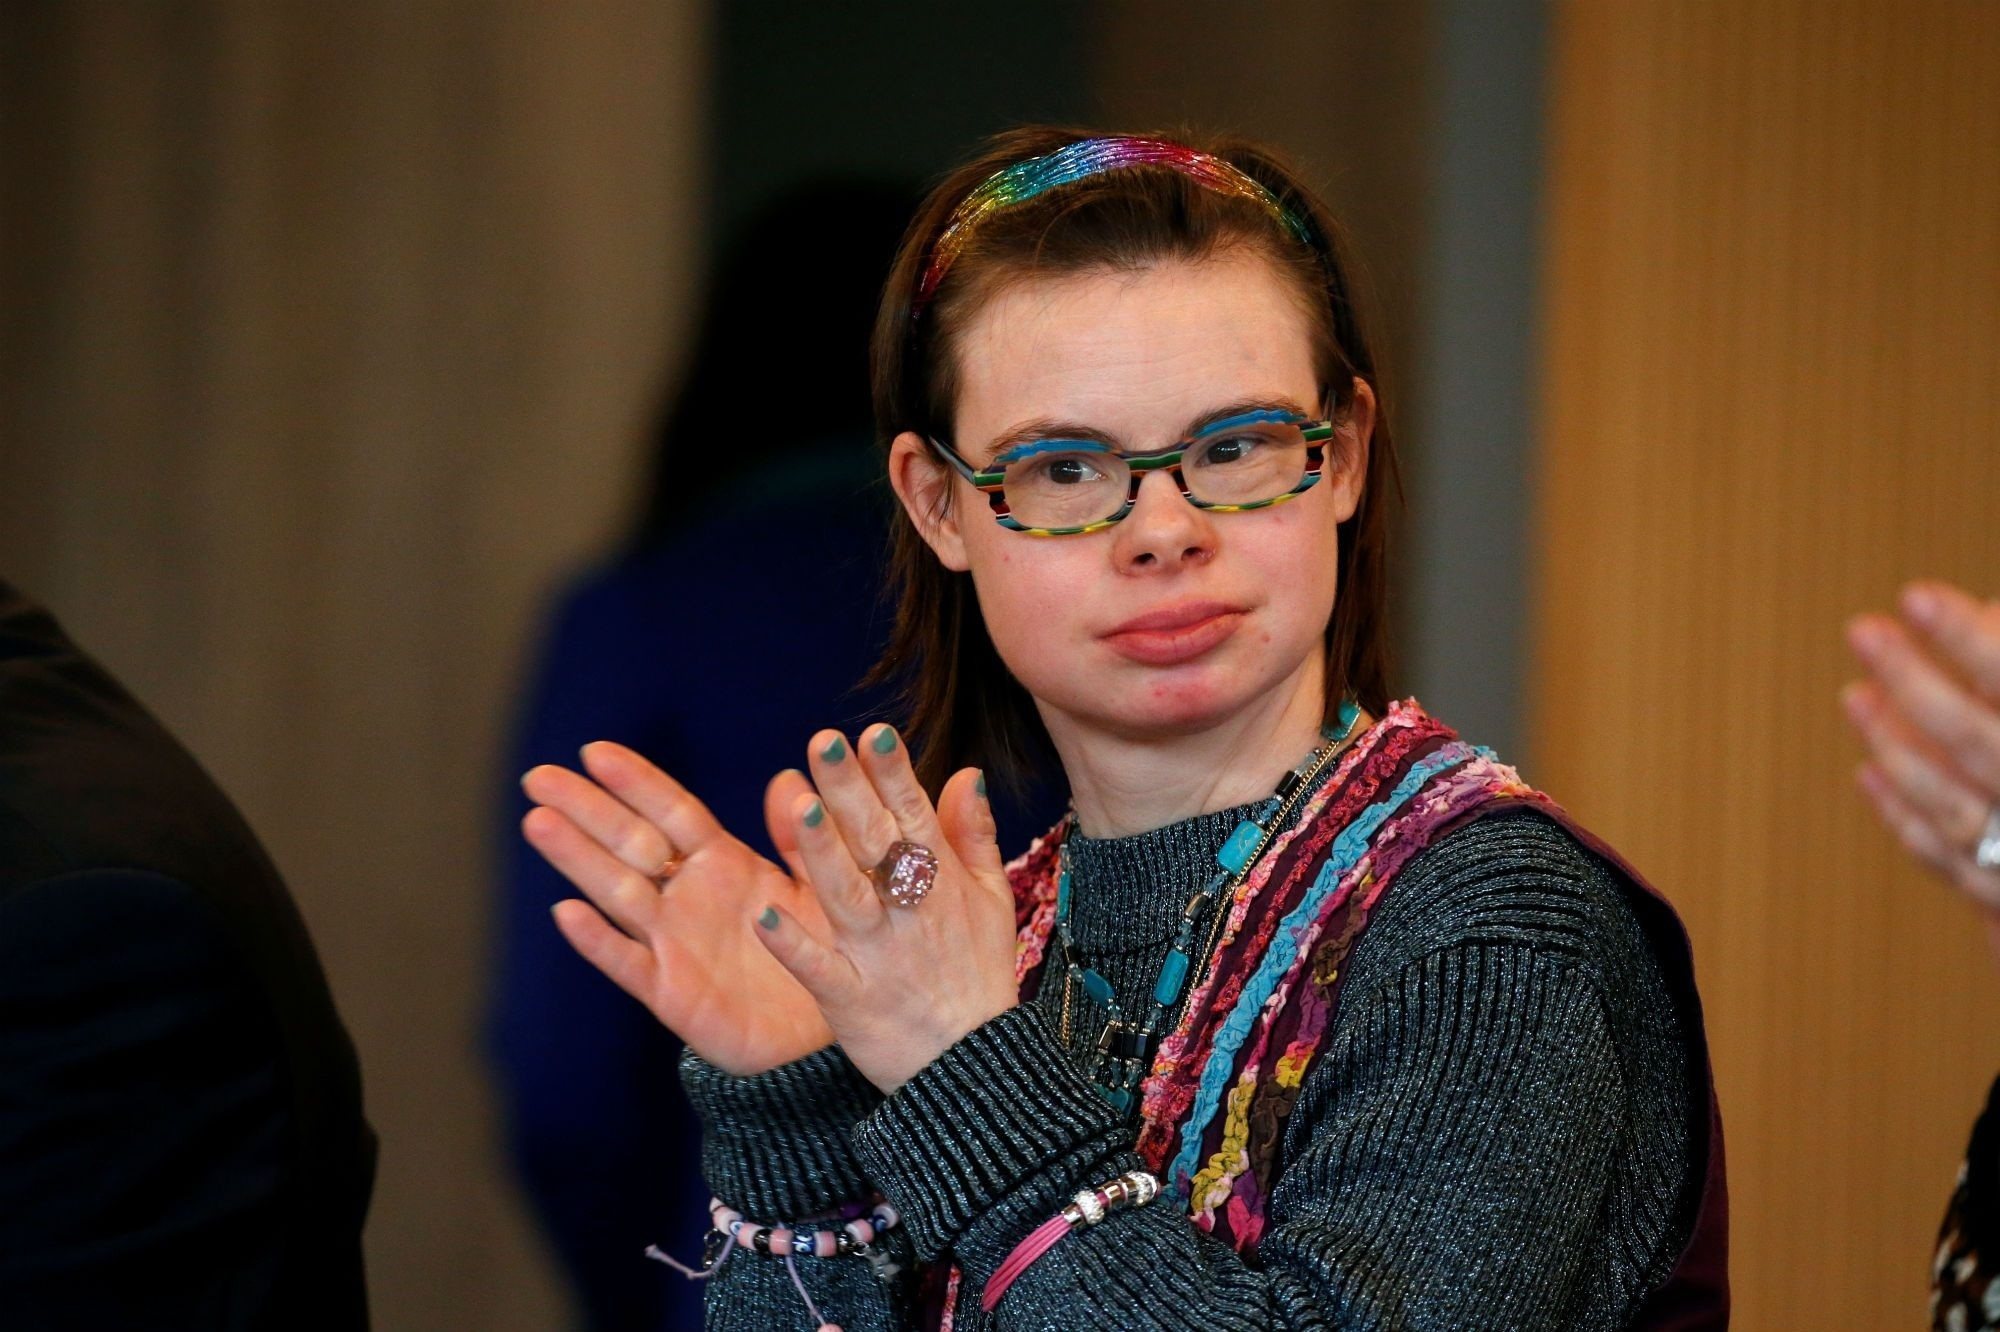face_no_mask: (908, 180, 1391, 710)
